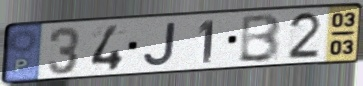1: (198, 19, 215, 64)
2: (287, 10, 324, 62)
3: (47, 24, 82, 76)
4: (88, 22, 126, 72)
B: (236, 12, 284, 64)
J: (141, 20, 178, 68)
